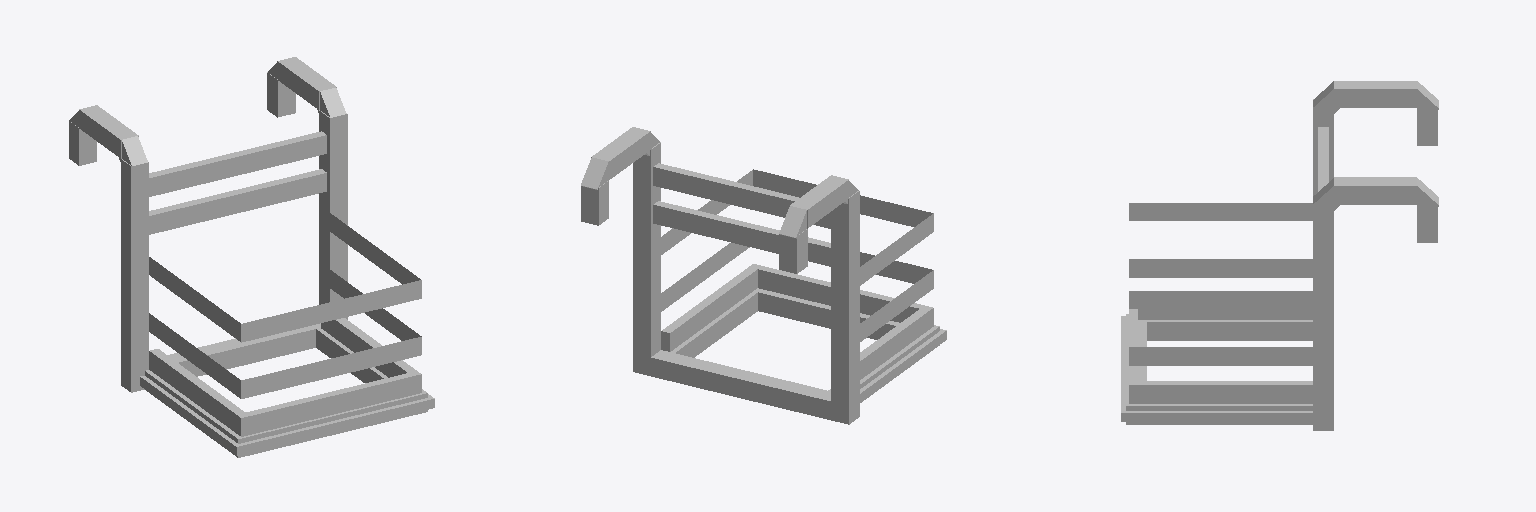
Rendered from chaotic_harness_full.obj.
The picture shows the model from 3 angles: view 1: azimuth 30°, elevation 25°; view 2: azimuth 150°, elevation 25°; view 3: azimuth 270°, elevation 25°; orthographic projection.
Visible parts, largest first — view 1: main_frame, cube, strap, holder; view 2: main_frame, cube, strap, holder; view 3: cube, strap, main_frame, holder.
Boxes of the visible parts, x1=… form: main_frame: x1=121, y1=110, x2=347, y2=392; cube: x1=69, y1=57, x2=434, y2=455; strap: x1=149, y1=213, x2=421, y2=398; holder: x1=145, y1=328, x2=427, y2=457; main_frame: x1=633, y1=142, x2=859, y2=424; cube: x1=581, y1=127, x2=946, y2=402; strap: x1=661, y1=169, x2=933, y2=341; holder: x1=671, y1=288, x2=939, y2=402; cube: x1=1121, y1=81, x2=1438, y2=421; strap: x1=1129, y1=203, x2=1312, y2=365; main_frame: x1=1313, y1=99, x2=1333, y2=430; holder: x1=1126, y1=314, x2=1312, y2=424.
Size of the model in its own units: 0.75 by 0.8125 by 0.9569.